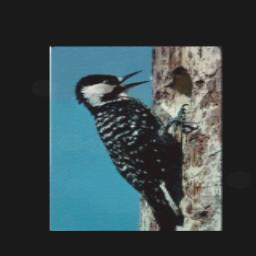Woodpecker: (69, 67, 200, 230)
